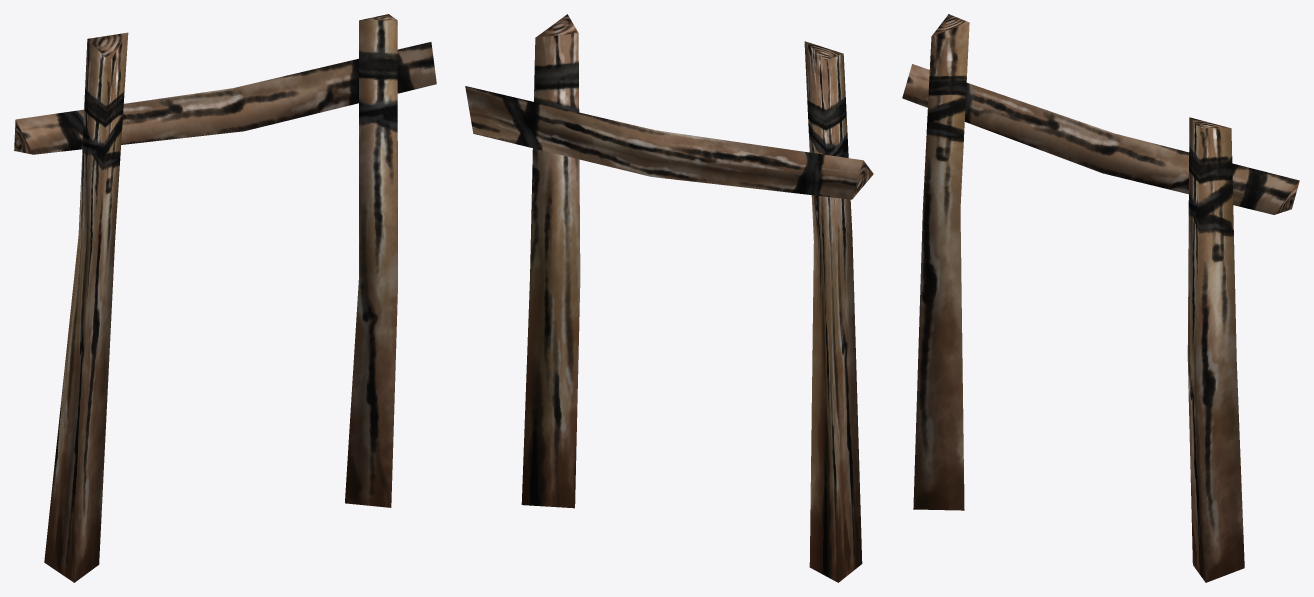
Rendered from PRP_WoodFenceB.FBX.
The picture shows the model from 3 angles, left to right: view 1: azimuth 30°, elevation 25°; view 2: azimuth 150°, elevation 25°; view 3: azimuth 330°, elevation 25°; orthographic projection. The views are drawn at different scales.
Visible parts, largest first — view 1: PRP_WoodFenceB; view 2: PRP_WoodFenceB; view 3: PRP_WoodFenceB.
Boxes of the visible parts, bbox=[...] form: PRP_WoodFenceB: bbox=[14, 14, 436, 582]; PRP_WoodFenceB: bbox=[465, 14, 873, 582]; PRP_WoodFenceB: bbox=[902, 14, 1299, 582].
Bounding box in the file's own units: 127 × 156 × 23.87.
